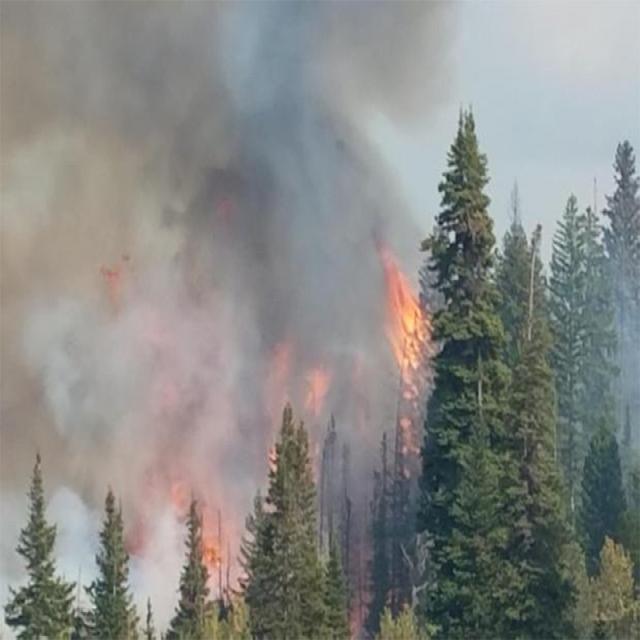Fire: (380, 244, 433, 399)
Smoke: (235, 16, 397, 507), (106, 95, 274, 377)
